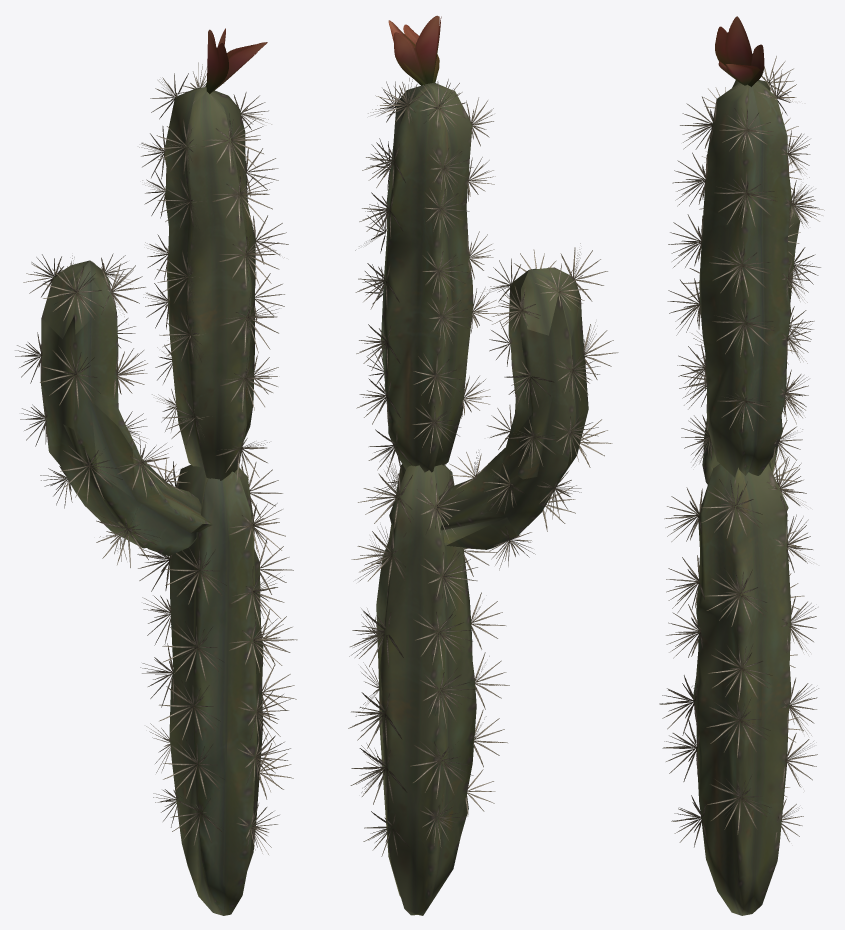
Rendered from Scene_Tree_XianRenZhang_3.FBX.
3 renders of one model, left to right at view 1: azimuth 30°, elevation 25°; view 2: azimuth 150°, elevation 25°; view 3: azimuth 270°, elevation 25°, orthographic.
Visible parts, largest first — view 1: Scene_Tree_XianRenZhang_3a, Scene_Tree_XianRenZhang_3b; view 2: Scene_Tree_XianRenZhang_3a, Scene_Tree_XianRenZhang_3b; view 3: Scene_Tree_XianRenZhang_3a, Scene_Tree_XianRenZhang_3b.
Part boxes in pixels (x1=…): Scene_Tree_XianRenZhang_3a: x1=41, y1=87, x2=263, y2=915; Scene_Tree_XianRenZhang_3b: x1=15, y1=28, x2=297, y2=854; Scene_Tree_XianRenZhang_3a: x1=376, y1=82, x2=588, y2=915; Scene_Tree_XianRenZhang_3b: x1=348, y1=15, x2=618, y2=856; Scene_Tree_XianRenZhang_3a: x1=693, y1=80, x2=800, y2=915; Scene_Tree_XianRenZhang_3b: x1=659, y1=16, x2=824, y2=847.
Size of the model in its own units: 102 by 320 by 57.03.
